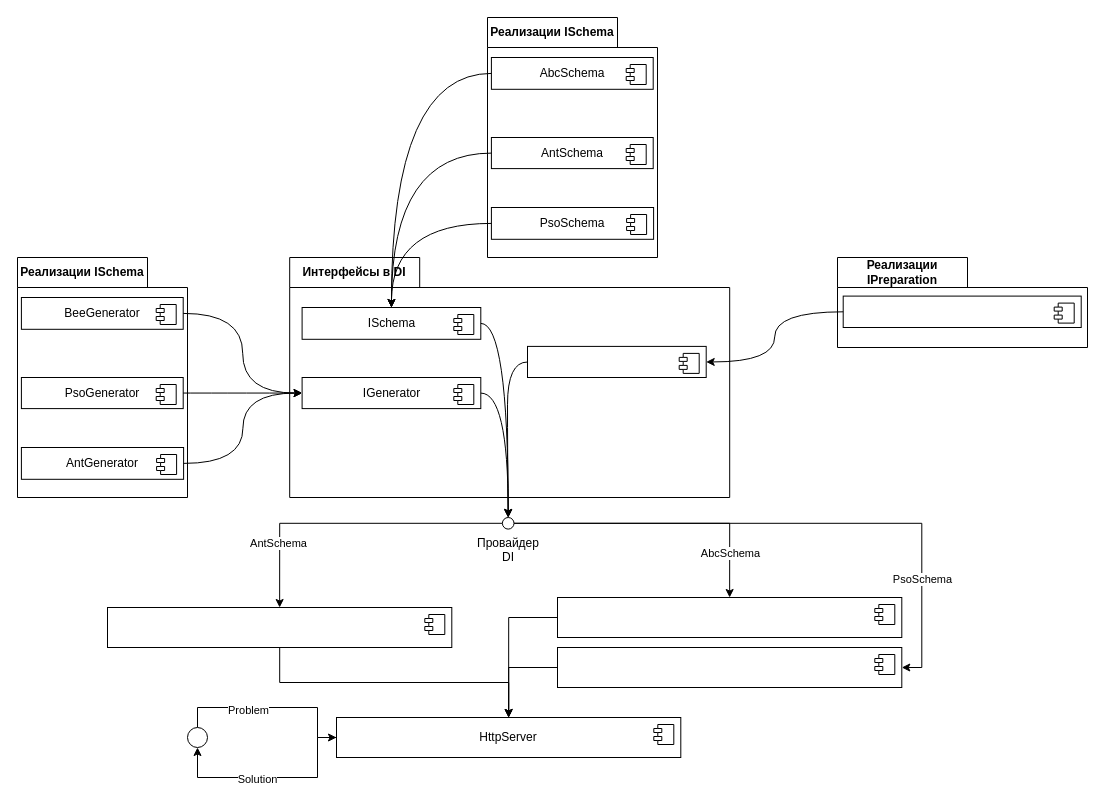
Image size: 1105x803. Some labels were removed from this diagram. The centre of each missing label's shape, as x and y in pixels:
/ant: point 279,627
/bee: point 729,617
/pso: point 729,667
DistancePreparation: point 961,311
http: point 197,737
IPreparation: point 616,361
